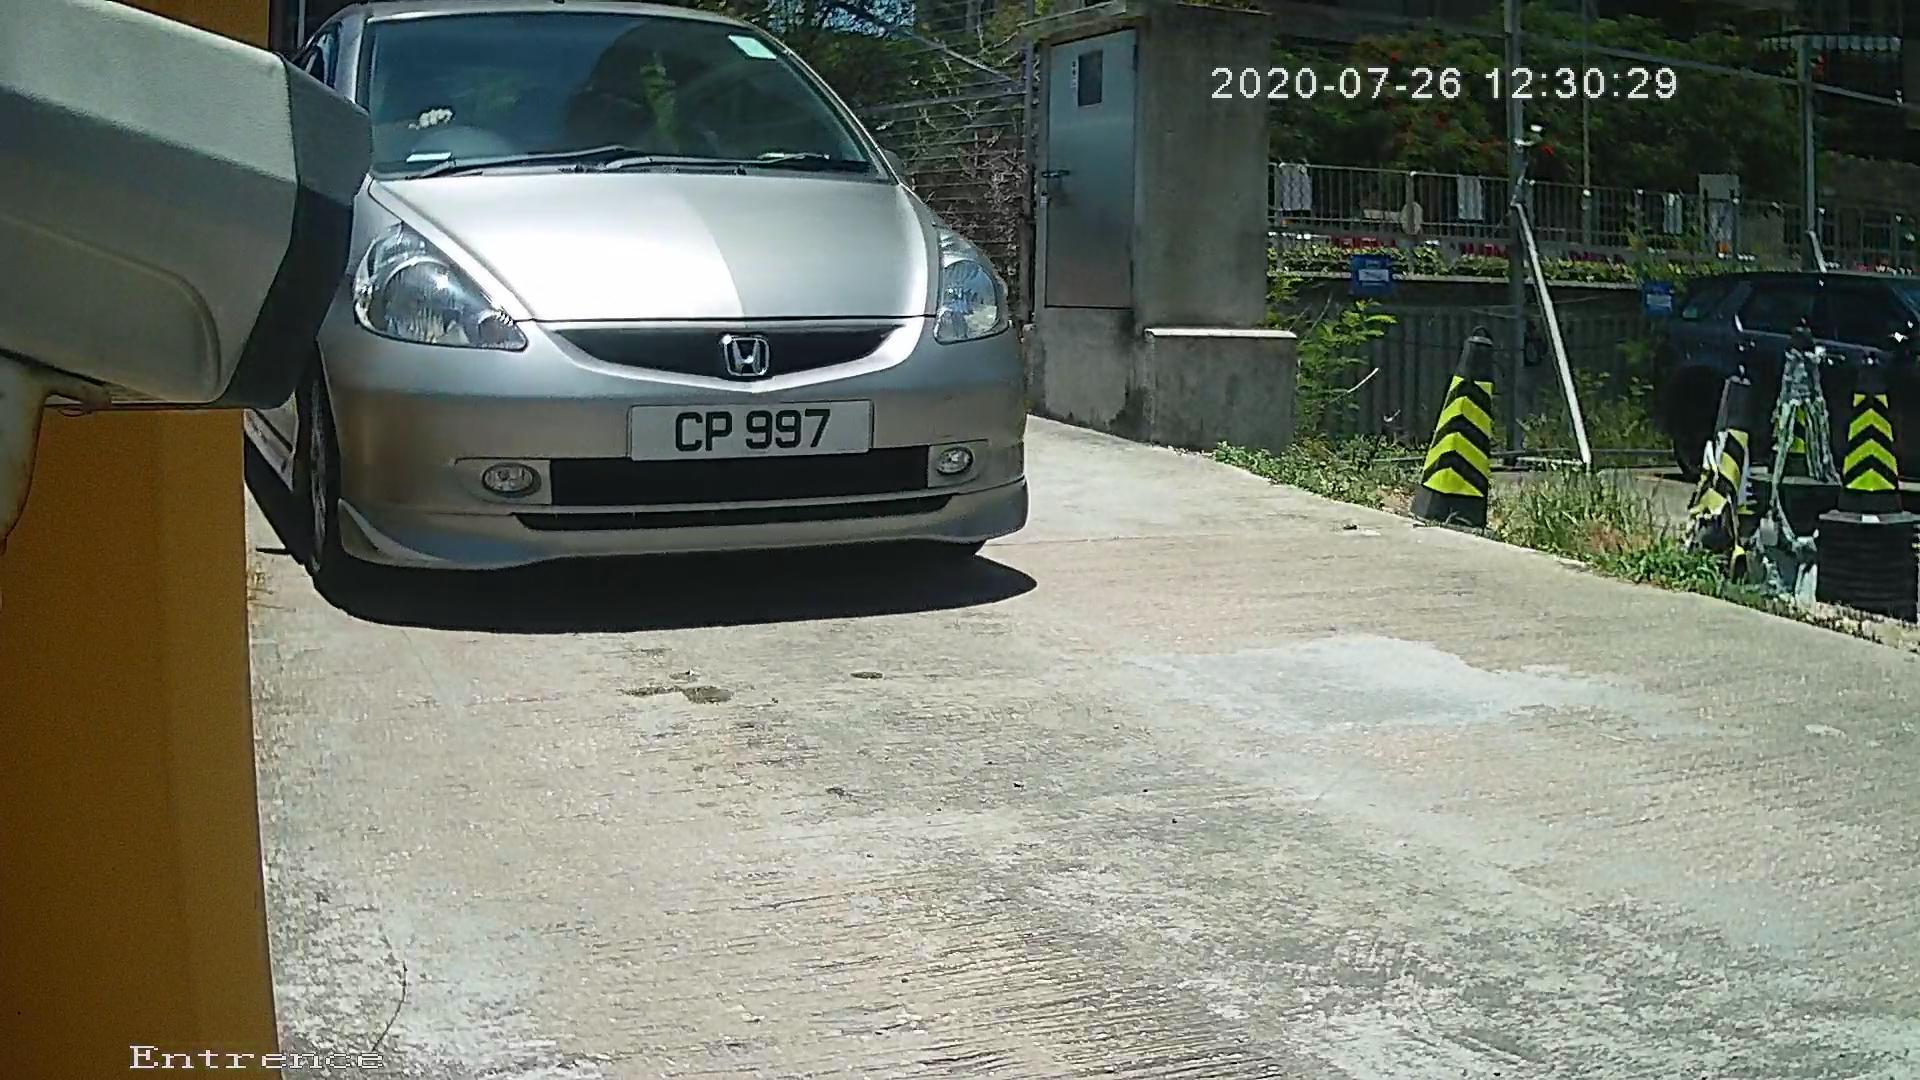privatecar: (203, 3, 1091, 651)
